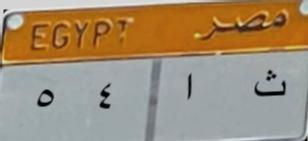4: (93, 75, 121, 117)
5: (31, 88, 63, 115)
alif: (179, 69, 200, 105)
thaa: (252, 65, 288, 104)
